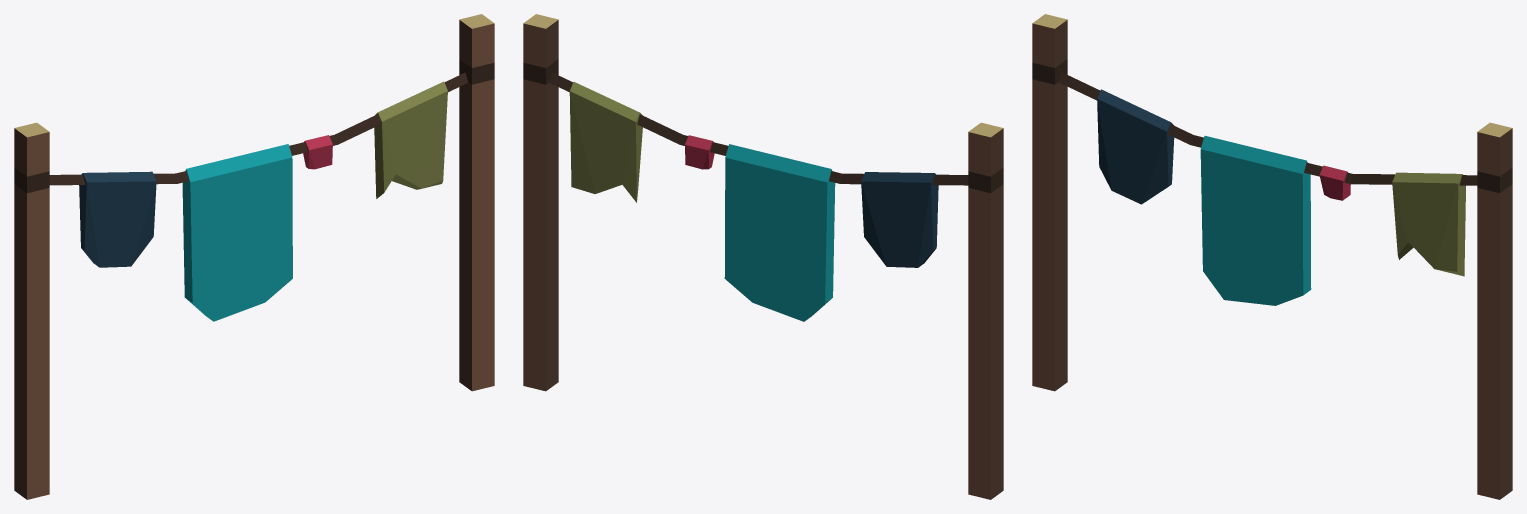
The model's file is TB_D_Prop_Loundry_C.FBX.
3 renders of one model, left to right at view 1: azimuth 30°, elevation 25°; view 2: azimuth 150°, elevation 25°; view 3: azimuth 330°, elevation 25°, orthographic.
Visible parts, largest first — view 1: TB_D_Prop_Loundry_C; view 2: TB_D_Prop_Loundry_C; view 3: TB_D_Prop_Loundry_C.
Boxes of the visible parts, bbox=[...] form: TB_D_Prop_Loundry_C: bbox=[14, 14, 494, 499]; TB_D_Prop_Loundry_C: bbox=[523, 14, 1003, 499]; TB_D_Prop_Loundry_C: bbox=[1032, 14, 1512, 499].
Bounding box in the file's own units: 3.53 × 2.62 × 0.1678.
